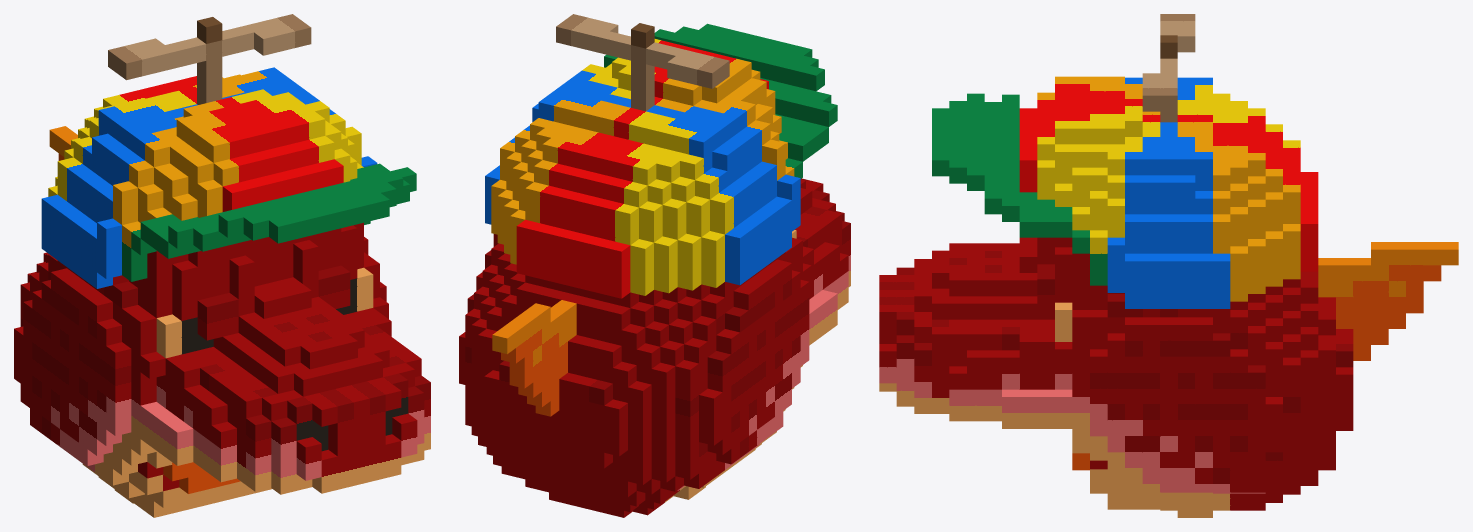
Rendered from rainbow hat_vr goggles.gltf.
3 renders of one model, left to right at view 1: azimuth 30°, elevation 25°; view 2: azimuth 150°, elevation 25°; view 3: azimuth 270°, elevation 25°, orthographic. The views are drawn at different scales.
Parts seen in each view (by area): view 1: C41_H_RainbowH_Skydiving_VRGg_LazerL-Mesh; view 2: C41_H_RainbowH_Skydiving_VRGg_LazerL-Mesh; view 3: C41_H_RainbowH_Skydiving_VRGg_LazerL-Mesh.
Part boxes in pixels (x1=…): C41_H_RainbowH_Skydiving_VRGg_LazerL-Mesh: x1=14, y1=14, x2=430, y2=517; C41_H_RainbowH_Skydiving_VRGg_LazerL-Mesh: x1=459, y1=14, x2=850, y2=517; C41_H_RainbowH_Skydiving_VRGg_LazerL-Mesh: x1=879, y1=14, x2=1458, y2=517.
Bounding box in the file's own units: 17 × 28 × 33.
Materials: 1 (1 with a texture image).
